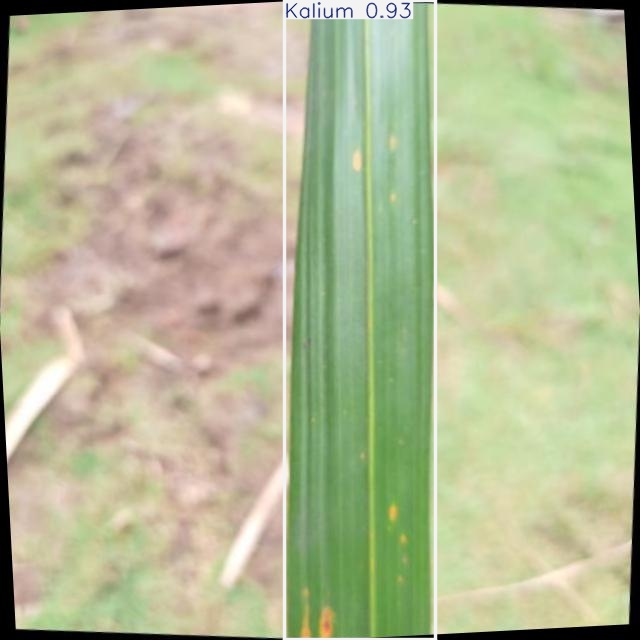Kalium: (284, 0, 435, 639)
